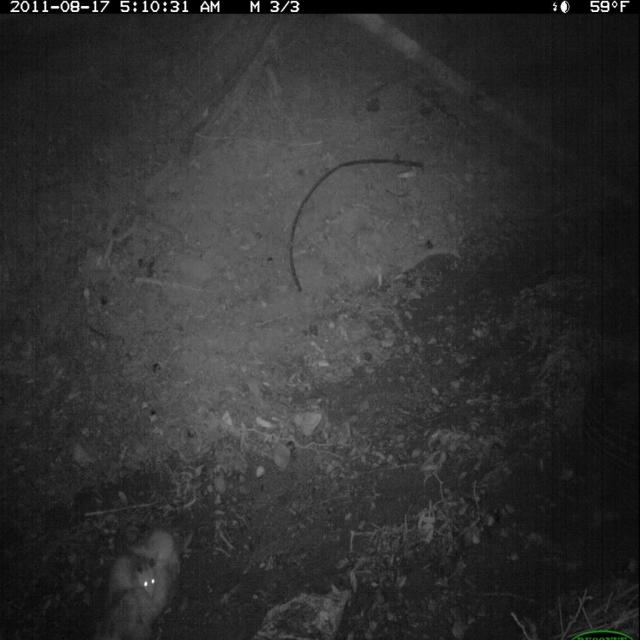opossum: (104, 522, 184, 640)
